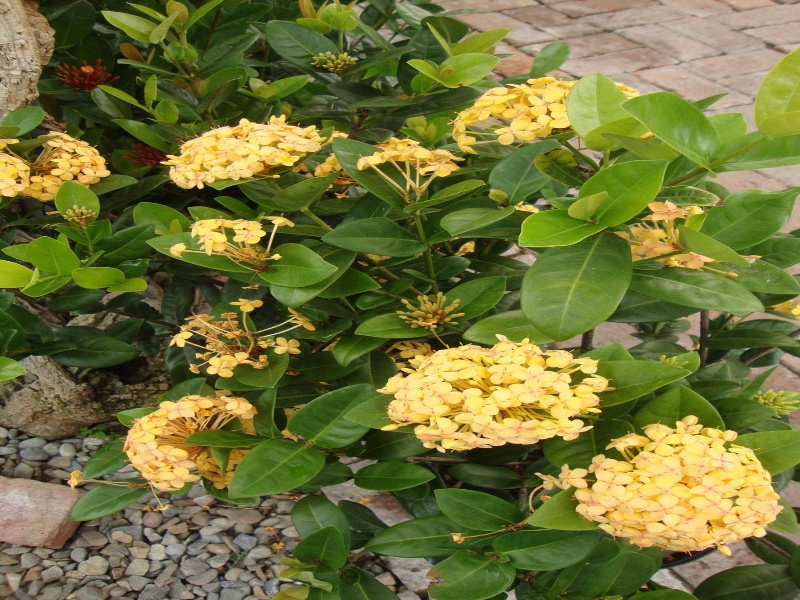Ixora: (369, 327, 615, 452), (568, 415, 785, 554), (452, 56, 640, 166), (109, 389, 283, 497), (144, 117, 348, 191), (162, 293, 315, 380), (1, 108, 117, 213)
